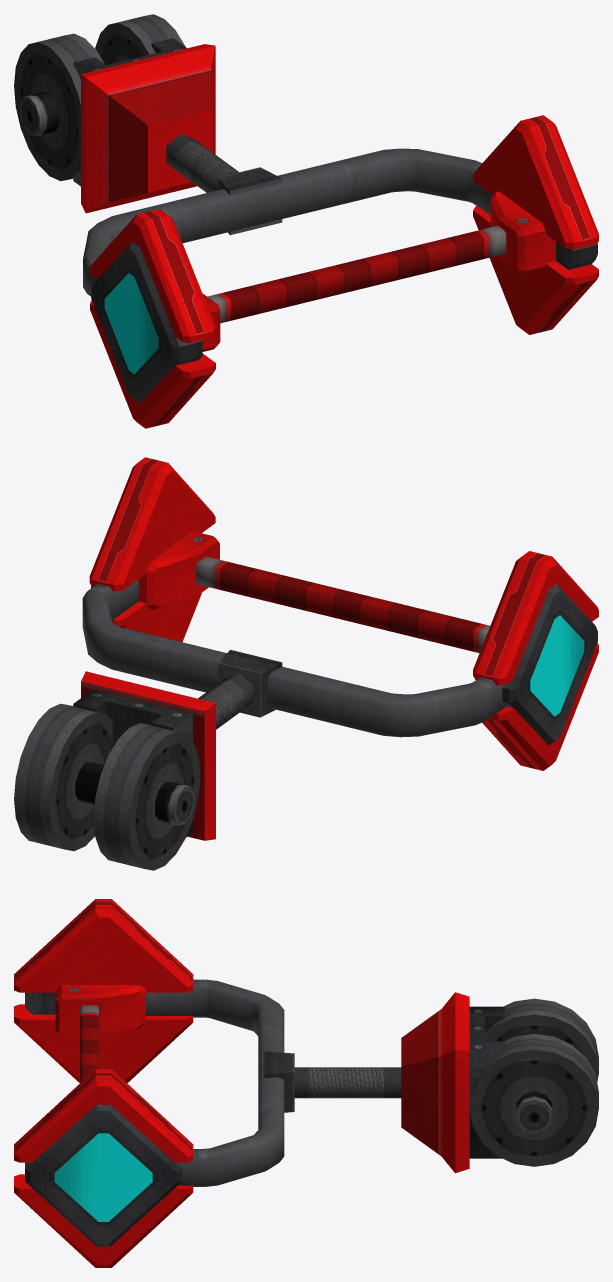
File: Pulley.fbx
3 views of the same model, one above another, from view 1: azimuth 30°, elevation 25°; view 2: azimuth 150°, elevation 25°; view 3: azimuth 270°, elevation 25° (orthographic). The views are drawn at different scales.
Visible parts, largest first — view 1: cmn_obj_pulley_HD; view 2: cmn_obj_pulley_HD; view 3: cmn_obj_pulley_HD.
Part boxes in pixels (box(x1,y1,x2,y2)): cmn_obj_pulley_HD: box(14, 14, 598, 428); cmn_obj_pulley_HD: box(14, 457, 598, 870); cmn_obj_pulley_HD: box(14, 899, 598, 1267).
Size of the model in its own units: 1.28 by 0.5948 by 1.67.
